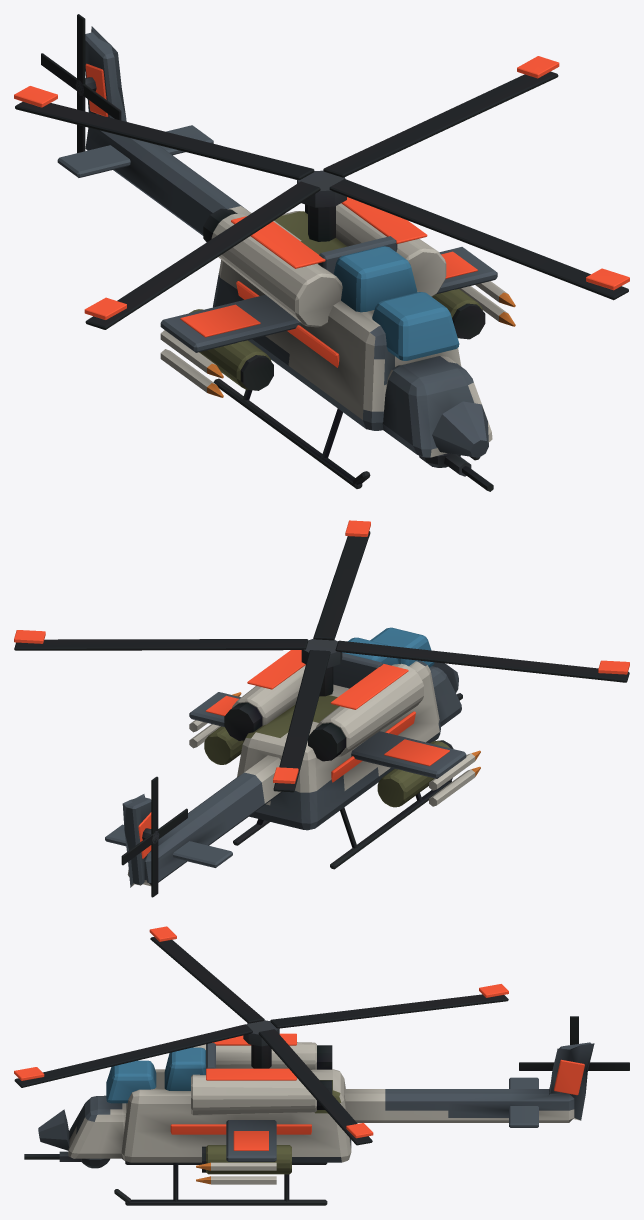
Rendered from gunship.glb.
The picture shows the model from 3 angles, top to bottom: view 1: azimuth 30°, elevation 25°; view 2: azimuth 150°, elevation 25°; view 3: azimuth 270°, elevation 25°; orthographic projection. The views are drawn at different scales.
Visible parts, largest first — view 1: geo_body, geo_rotor_pivot, geo_rotor_pivot_tail, geo_barrel; view 2: geo_body, geo_rotor_pivot, geo_rotor_pivot_tail; view 3: geo_body, geo_rotor_pivot, geo_rotor_pivot_tail.
Part boxes in pixels (bbox=[...]): geo_body: bbox=[57, 26, 515, 488]; geo_rotor_pivot: bbox=[14, 56, 629, 329]; geo_rotor_pivot_tail: bbox=[41, 14, 121, 152]; geo_barrel: bbox=[444, 454, 493, 491]; geo_body: bbox=[105, 627, 480, 887]; geo_rotor_pivot: bbox=[14, 520, 629, 792]; geo_rotor_pivot_tail: bbox=[121, 776, 187, 897]; geo_body: bbox=[38, 1033, 594, 1205]; geo_rotor_pivot: bbox=[14, 926, 508, 1145]; geo_rotor_pivot_tail: bbox=[519, 1016, 629, 1070].
Bounding box in the file's own units: 9.81 × 3.54 × 12.21.
